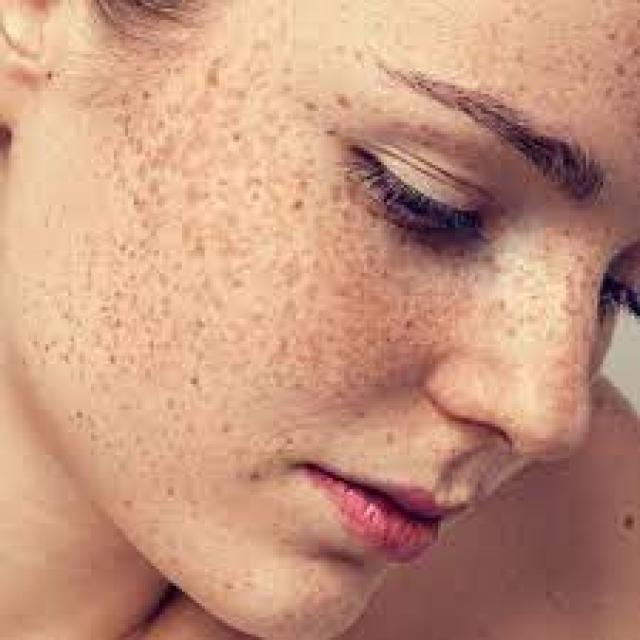pigmentation: (119, 56, 315, 404)
